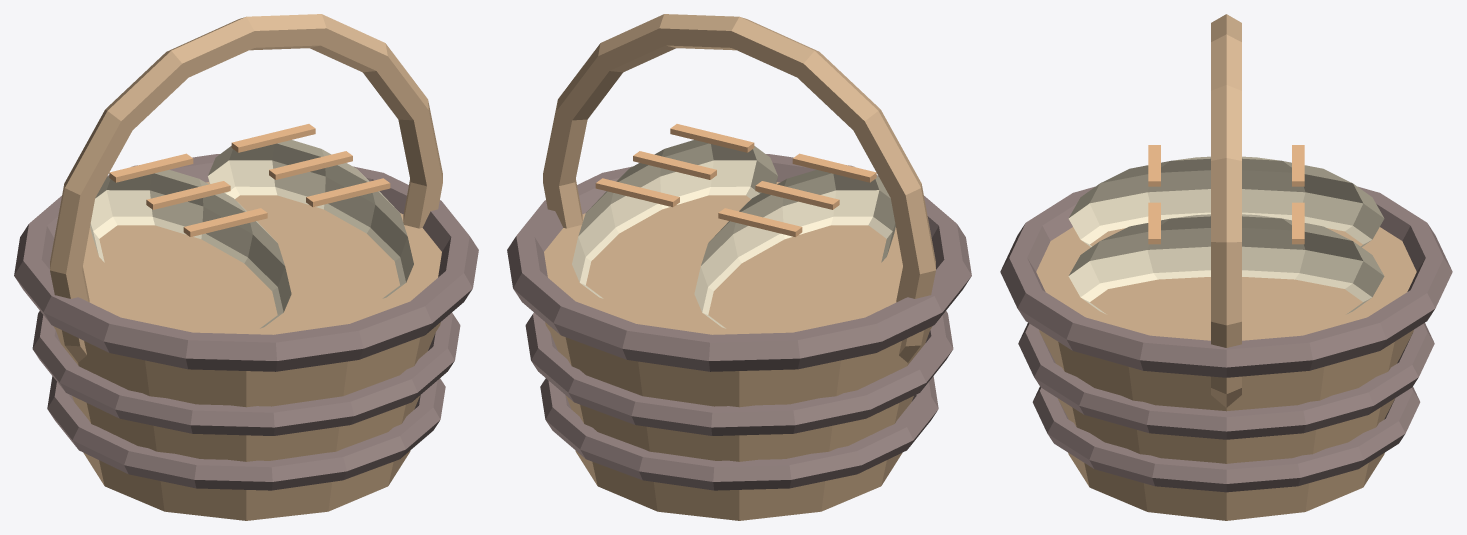
Rendered from meadow-courier-picnic-bread-basket__44.glb.
3 views of the same model, side by side, from view 1: azimuth 30°, elevation 25°; view 2: azimuth 150°, elevation 25°; view 3: azimuth 270°, elevation 25° (orthographic). The views are drawn at different scales.
Parts seen in each view (by area): view 1: meadow-courier-bread-basket; view 2: meadow-courier-bread-basket; view 3: meadow-courier-bread-basket.
Boxes of the visible parts, x1,y1,x2,y2 form: meadow-courier-bread-basket: (14,14,478,520); meadow-courier-bread-basket: (507,14,971,520); meadow-courier-bread-basket: (1000,14,1452,520).
Bounding box in the file's own units: 0.63 × 0.645 × 0.63.
